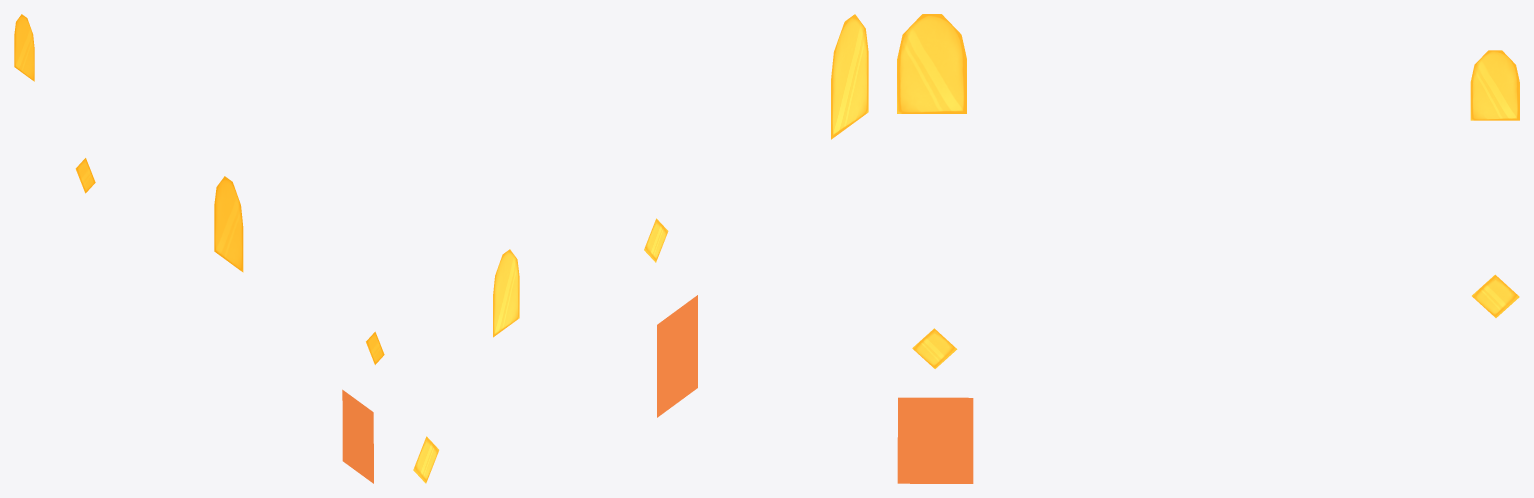
Rendered from glowing.glb.
3 renders of one model, left to right at view 1: azimuth 30°, elevation 25°; view 2: azimuth 150°, elevation 25°; view 3: azimuth 270°, elevation 25°, orthographic. The views are drawn at different scales.
Visible parts, largest first — view 1: obj_house_1_material_window_and_steel_0.331, obj_house_1_material_planks_0.2262, obj_house_2_material_window_and_steel_0.204; view 2: obj_house_1_material_window_and_steel_0.331, obj_house_1_material_planks_0.2262, obj_house_2_material_window_and_steel_0.204; view 3: obj_house_1_material_window_and_steel_0.331, obj_house_1_material_planks_0.2262, obj_house_2_material_window_and_steel_0.204.
Part boxes in pixels (<box>): obj_house_1_material_window_and_steel_0.331: <box>214,176,384,364</box>; obj_house_1_material_planks_0.2262: <box>342,389,373,483</box>; obj_house_2_material_window_and_steel_0.204: <box>14,14,95,193</box>; obj_house_1_material_window_and_steel_0.331: <box>644,14,868,262</box>; obj_house_1_material_planks_0.2262: <box>657,295,697,417</box>; obj_house_2_material_window_and_steel_0.204: <box>413,249,519,483</box>; obj_house_1_material_window_and_steel_0.331: <box>897,14,966,368</box>; obj_house_1_material_planks_0.2262: <box>897,397,973,483</box>; obj_house_2_material_window_and_steel_0.204: <box>1470,50,1519,317</box>.
Bounding box in the file's own units: 4.25 × 9 × 12.92.
Materials: 3 (2 with a texture image).
